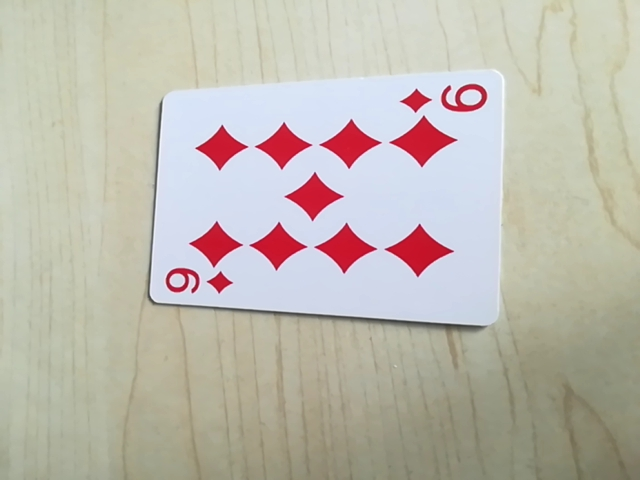fk 9: (397, 77, 493, 121), (159, 264, 235, 301)
